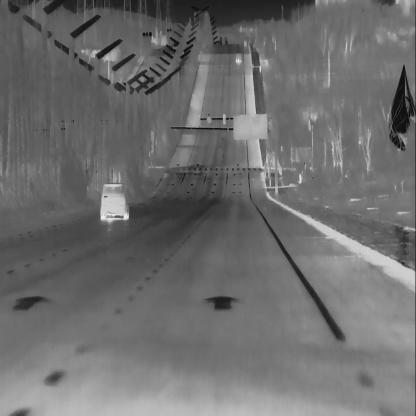car: (99, 182, 130, 221), (234, 50, 242, 68)
